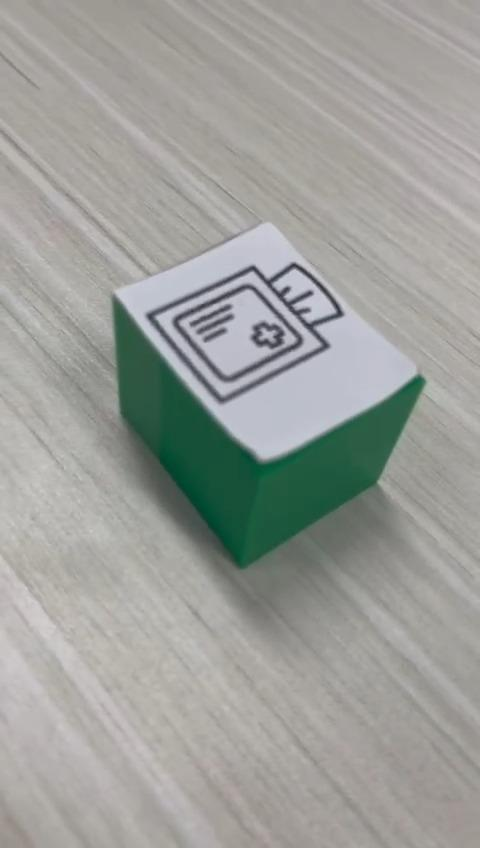Gauze: (110, 219, 426, 569)
